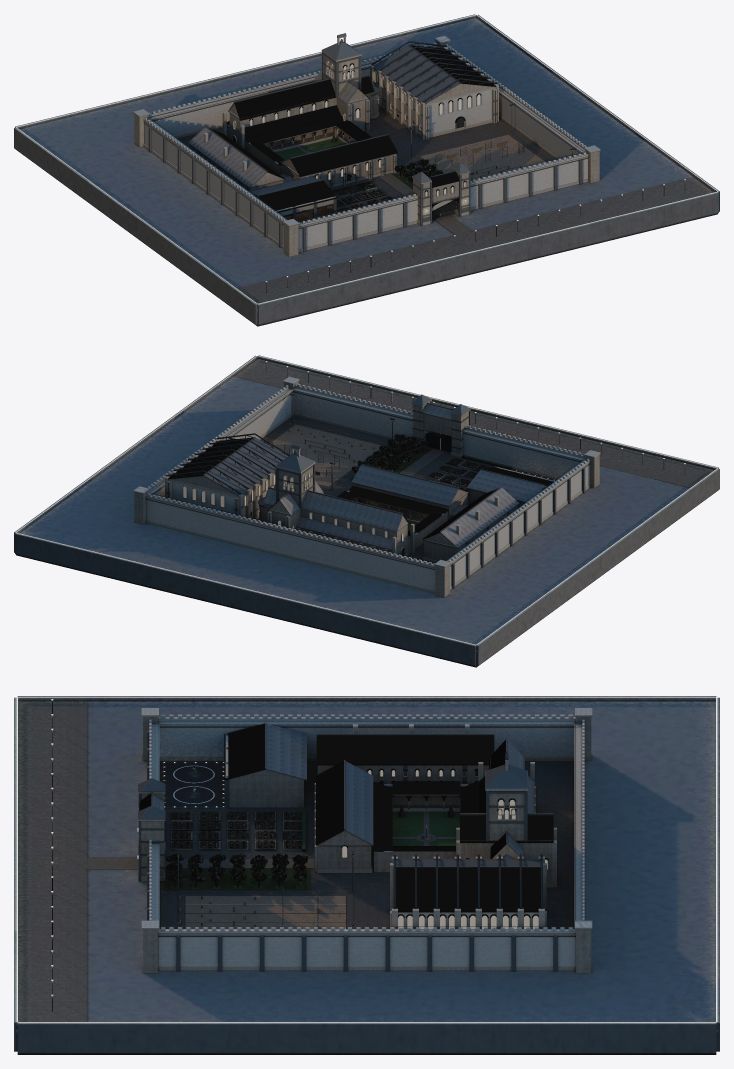
The model's file is iron_cradle.glb.
3 renders of one model, top to bottom at view 1: azimuth 30°, elevation 25°; view 2: azimuth 150°, elevation 25°; view 3: azimuth 270°, elevation 25°, orthographic. The views are drawn at different scales.
Parts seen in each view (by area): view 1: site_ground, props_wall_gate, props_hall, walls_ext, props_ranges, props_yard, props_cloister, props_hangar, props_garden; view 2: site_ground, props_wall_gate, walls_ext, props_hall, props_ranges, props_yard, props_garden, props_cloister, props_hangar; view 3: site_ground, props_wall_gate, props_ranges, props_hall, props_garden, props_hangar, walls_ext, props_cloister, props_yard.
Part boxes in pixels (x1,y1,x2,y2): site_ground: (14,14,719,326); props_wall_gate: (133,35,600,256); props_hall: (369,41,499,139); walls_ext: (222,33,379,148); props_ranges: (188,126,397,191); props_yard: (409,104,574,180); props_cloister: (244,115,371,174); props_hangar: (249,177,337,222); props_garden: (331,159,443,212); site_ground: (14,355,719,667); props_wall_gate: (133,376,600,597); walls_ext: (257,445,414,556); props_hall: (164,433,290,520); props_ranges: (351,463,519,562); props_yard: (229,393,394,489); props_garden: (349,434,511,496); props_cloister: (337,486,448,549); props_hangar: (466,466,555,508); site_ground: (14,696,719,1054); props_wall_gate: (137,708,592,973); props_ranges: (314,724,494,872); props_hall: (389,854,546,928); props_garden: (164,809,314,890); props_hangar: (163,722,306,807); walls_ext: (456,738,557,887); props_cloister: (373,781,478,872); props_yard: (177,851,353,928).
Bounding box in the file's own units: 222 × 48.9 × 202.
9 materials, 9 textured.
